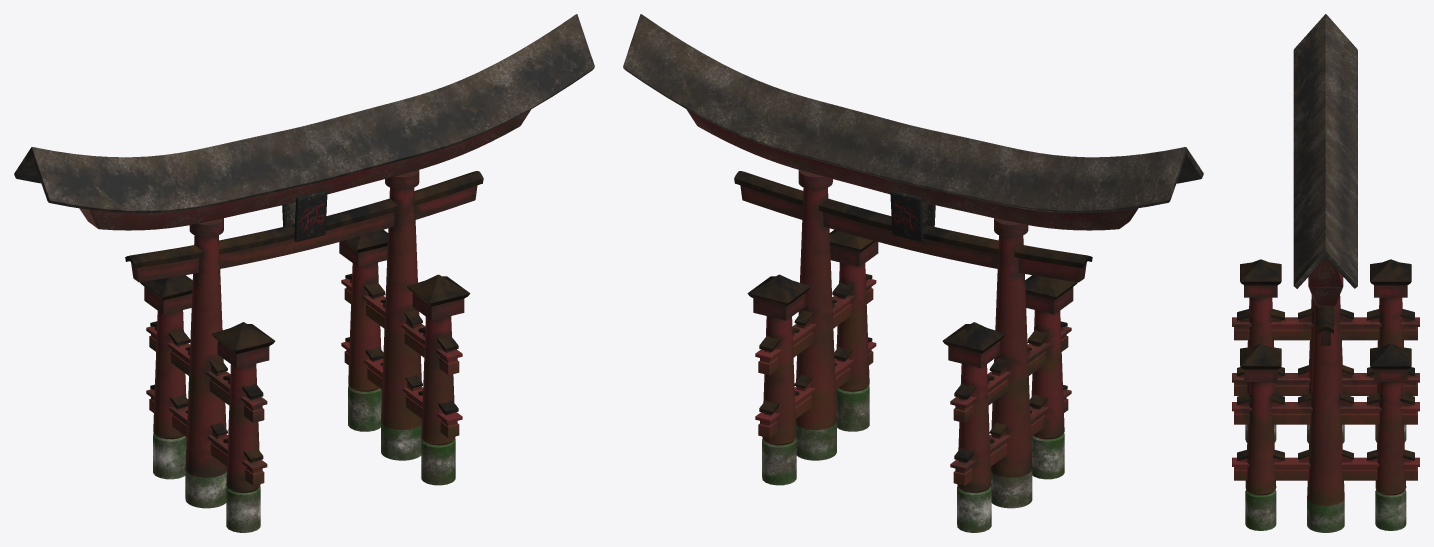
File: shrine_2.glb
The picture shows the model from 3 angles, left to right: view 1: azimuth 30°, elevation 25°; view 2: azimuth 150°, elevation 25°; view 3: azimuth 270°, elevation 25°; orthographic projection. The views are drawn at different scales.
Parts seen in each view (by area): view 1: Main pillars.001, Cube.003, Cube.001; view 2: Main pillars.001, Cube.003, Cube.001; view 3: Main pillars.001, Cube.003.
Boxes of the visible parts, x1,y1,x2,y2 form: Main pillars.001: [125, 170, 483, 532]; Cube.003: [14, 14, 594, 230]; Cube.001: [282, 190, 327, 241]; Main pillars.001: [734, 170, 1092, 532]; Cube.003: [623, 14, 1203, 230]; Cube.001: [890, 190, 935, 241]; Main pillars.001: [1232, 259, 1419, 532]; Cube.003: [1293, 14, 1357, 306].
Bounding box in the file's own units: 582 × 403 × 195.
Materials: 6 (6 with a texture image).
